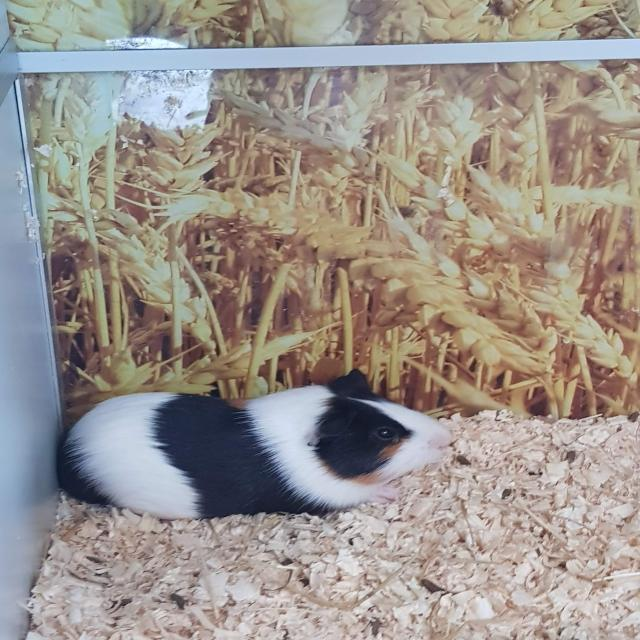guinea pig: (53, 370, 454, 517)
